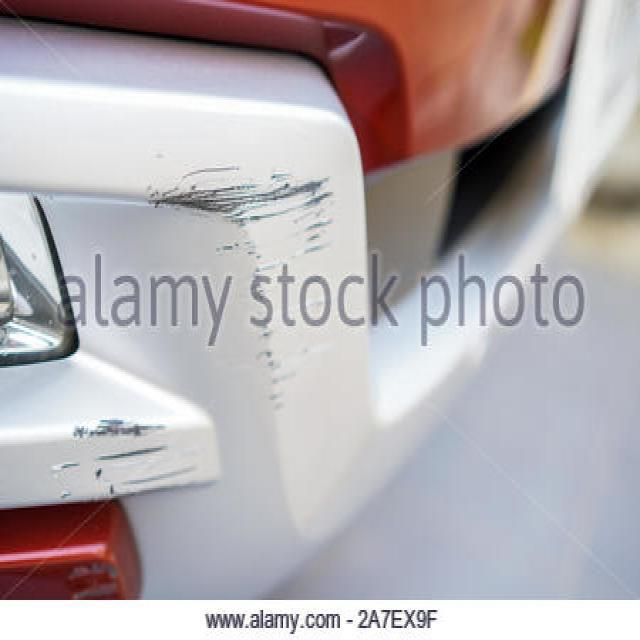rear-bumper-dent: (0, 110, 352, 603)
